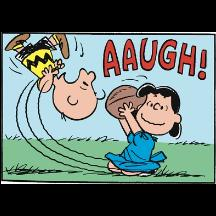charlie: (4, 33, 106, 123)
